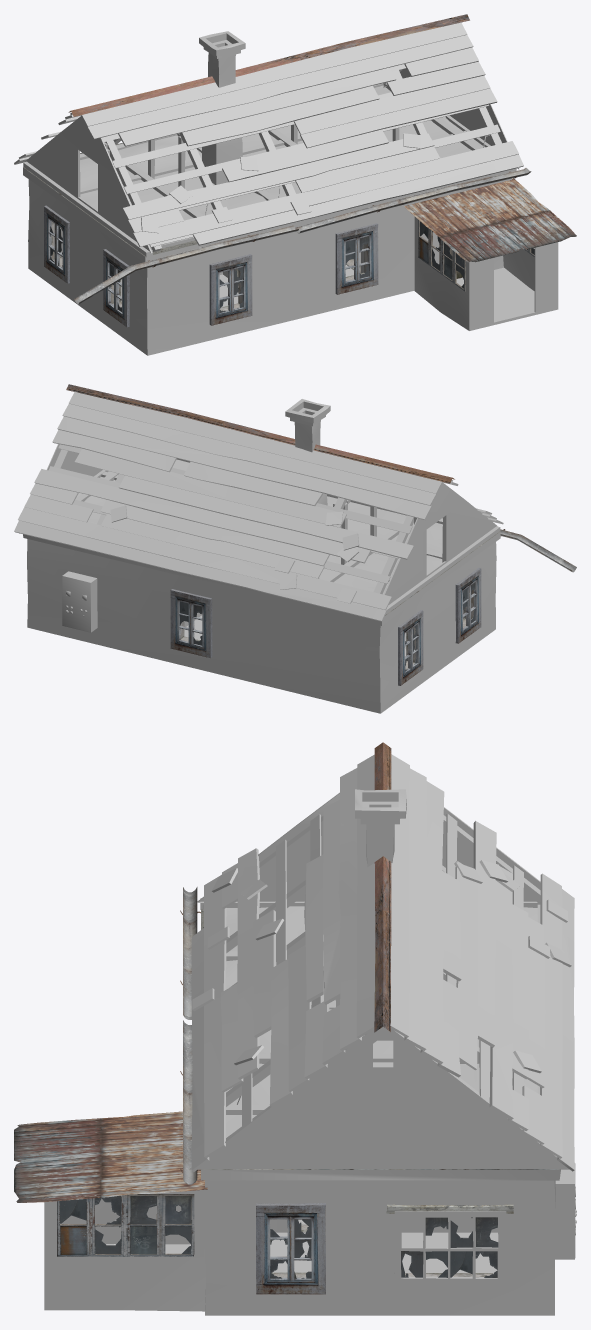
File: Houses_Ready_03.FBX
3 renders of one model, top to bottom at view 1: azimuth 30°, elevation 25°; view 2: azimuth 150°, elevation 25°; view 3: azimuth 270°, elevation 25°, orthographic. The views are drawn at different scales.
Parts seen in each view (by area): view 1: Roof_03, Corps_01_3, Attic_03, Porch_05, Windows_07_2 (×2), Windows_07 (×2), Drain_01, Peak_03, Chimney_02, Windows_Porch_02; view 2: Roof_03, Corps_01_3, Attic_03, Windows_07 (×2), Peak_03, Electrical_Box_01, Chimney_02, Windows_07_2, Drain_01; view 3: Roof_03, Attic_03, Corps_01_3, Porch_05, Windows_07_2, Windows_Big_04, Peak_03, Windows_Porch_02, Drain_01, Chimney_02, Electrical_Box_01, Windows_Porch_02glass (×2).
Boxes of the visible parts, box(x1,y1,x2,y2) form: Roof_03: box(14, 22, 523, 246); Corps_01_3: box(23, 143, 516, 355); Attic_03: box(23, 64, 519, 257); Porch_05: box(404, 178, 576, 330); Windows_07_2 (×2): box(44, 205, 252, 325); Windows_07 (×2): box(103, 223, 378, 327); Drain_01: box(74, 168, 531, 304); Peak_03: box(68, 14, 469, 116); Chimney_02: box(199, 31, 245, 184); Windows_Porch_02: box(418, 220, 465, 291); Roof_03: box(14, 391, 503, 621); Corps_01_3: box(23, 518, 500, 713); Attic_03: box(19, 444, 500, 614); Windows_07 (×2): box(170, 568, 481, 657); Peak_03: box(66, 384, 454, 483); Electrical_Box_01: box(62, 571, 97, 632); Chimney_02: box(285, 399, 330, 505); Windows_07_2: box(398, 610, 423, 685); Drain_01: box(500, 529, 576, 572); Roof_03: box(191, 754, 574, 1171); Attic_03: box(189, 792, 569, 1169); Corps_01_3: box(201, 909, 560, 1315); Porch_05: box(14, 1111, 207, 1311); Windows_07_2: box(256, 1203, 325, 1294); Windows_Big_04: box(394, 1211, 506, 1285); Peak_03: box(374, 742, 391, 1032); Windows_Porch_02: box(57, 1194, 194, 1256); Drain_01: box(180, 887, 200, 1184); Chimney_02: box(355, 789, 406, 866); Electrical_Box_01: box(555, 1163, 576, 1259); Windows_Porch_02glass (×2): box(130, 1196, 191, 1254).
Bounding box in the file's own units: 1453 × 1057 × 729.
